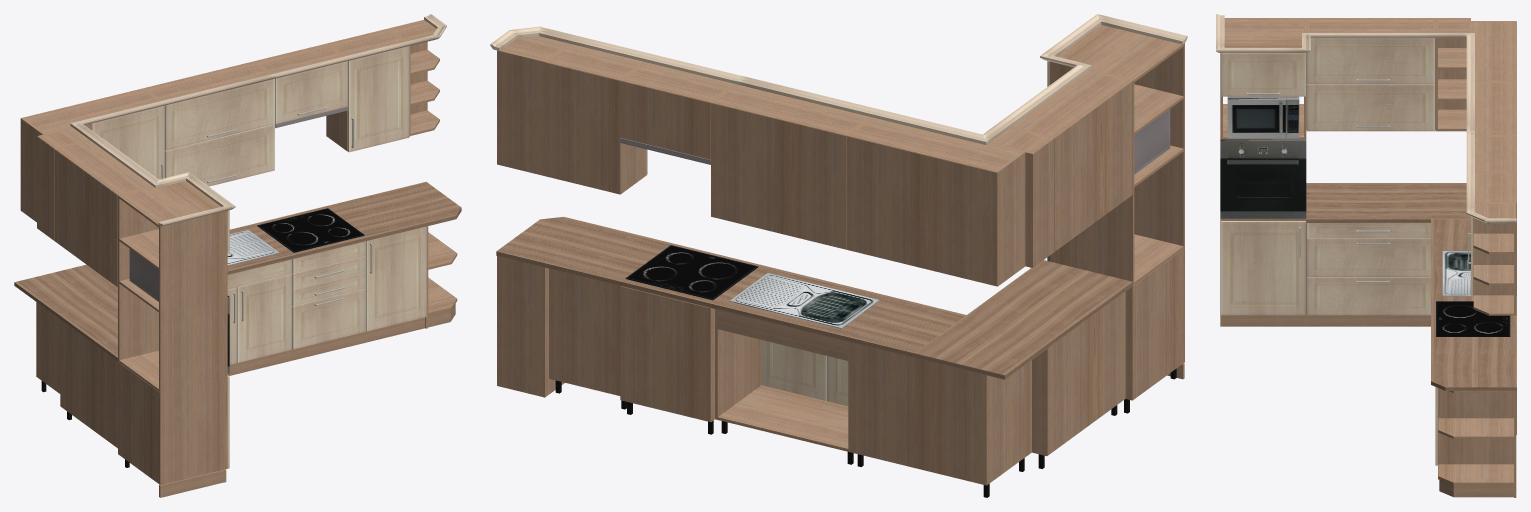
The model's file is cabinet.glb.
3 renders of one model, left to right at view 1: azimuth 30°, elevation 25°; view 2: azimuth 150°, elevation 25°; view 3: azimuth 270°, elevation 25°, orthographic. The views are drawn at different scales.
Size of the model in its own units: 34.12 by 21.55 by 20.98.
Materials: 21 (21 with a texture image).
